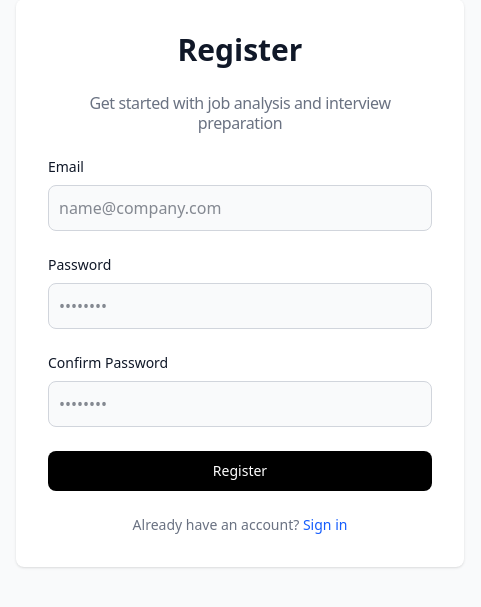
it: shows network error on fetch failure
Type "user@example.com" into the field labelled "Email" at {"x": 240, "y": 208}, box [48,185,432,231]
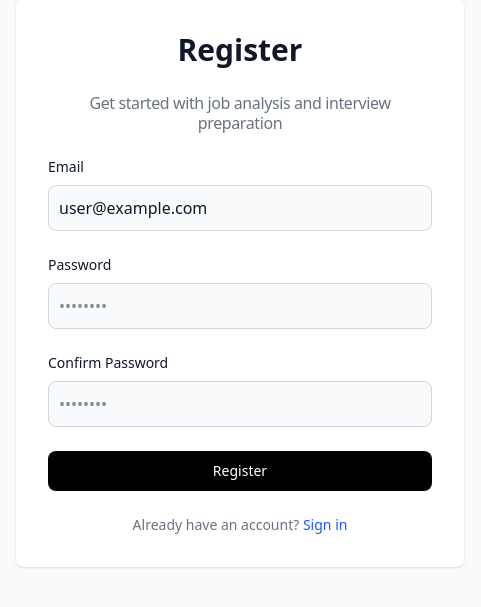
Type "secret" into the password field labelled "Password" at {"x": 240, "y": 306}, box [48,283,432,329]
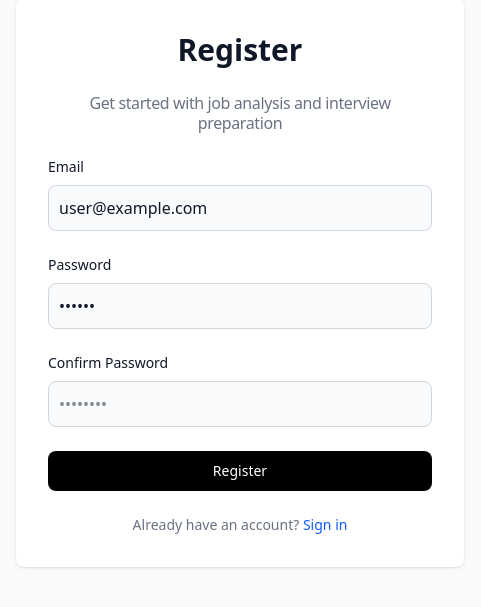
Type "secret" into the password field labelled "Confirm Password" at {"x": 240, "y": 404}, box [48,381,432,427]
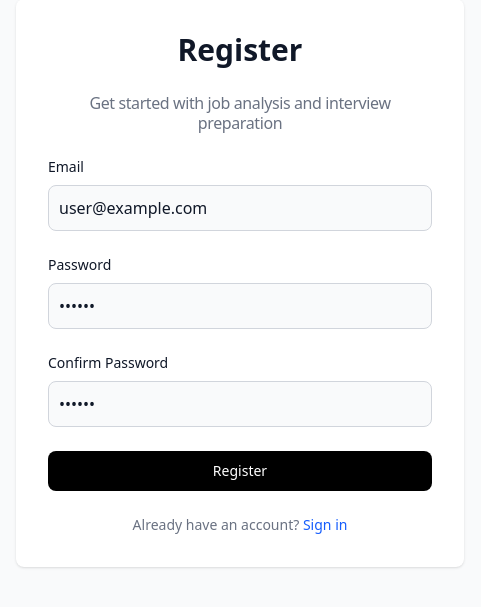
Click the button "Register" at {"x": 240, "y": 471}, box [48,451,432,491]
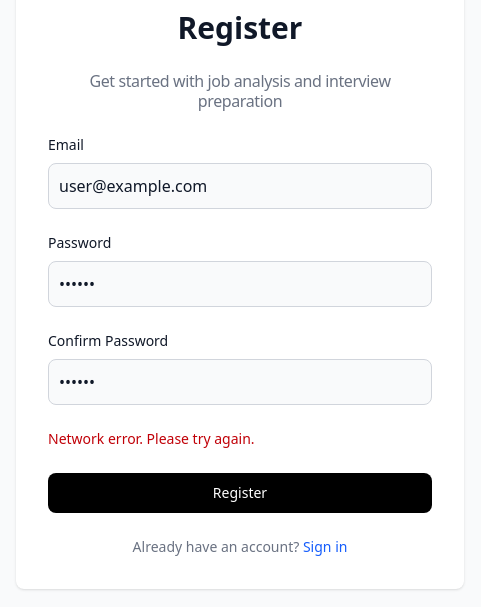
Now the text "Network error. Please try again." is shown, box [48,429,255,448]
